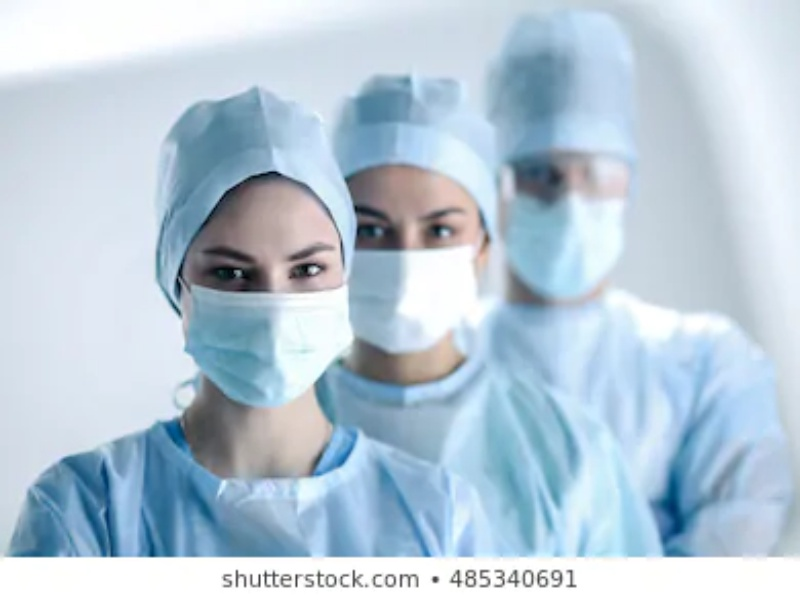ManaoArotava: (152, 117, 368, 428), (323, 76, 512, 383), (484, 33, 661, 326)
